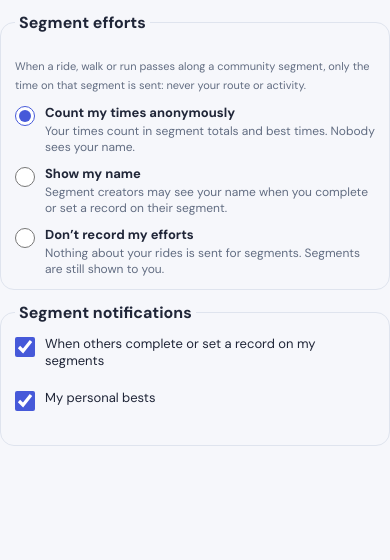
Test: explains participation, is anonymous by default, and lets the person show their name or stop and remove efforts
Expected: the text "only the time on that segment is sent: never your route or activity" is shown, [15,59,370,92]
Expected: the radio button labelled "Count my times anonymously" is checked, [15,106,35,126]
Click the radio button labelled "Show my name".
click(25, 177)  # box [15,167,35,187]
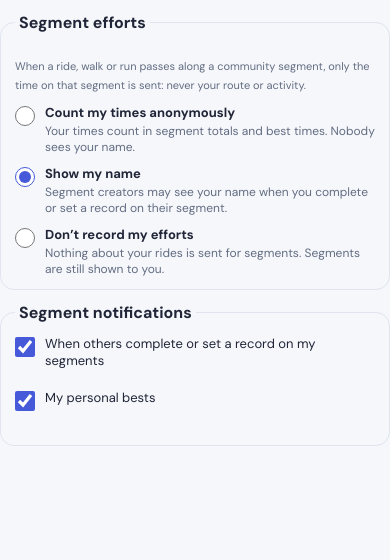
Expected: the button "Remove my earlier efforts" is not shown
Click the radio button labelled "Don’t record my efforts".
click(25, 238)  # box [15,228,35,248]
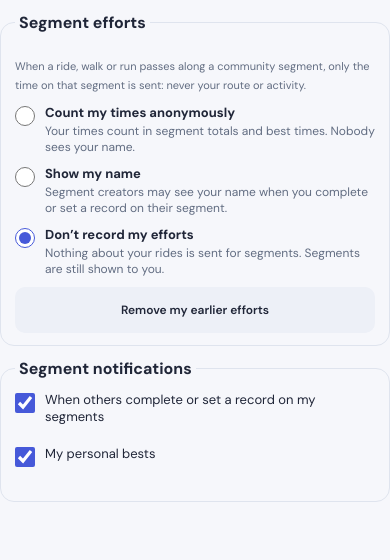
Click the button "Remove my earlier efforts".
click(195, 310)  # box [15,287,375,333]
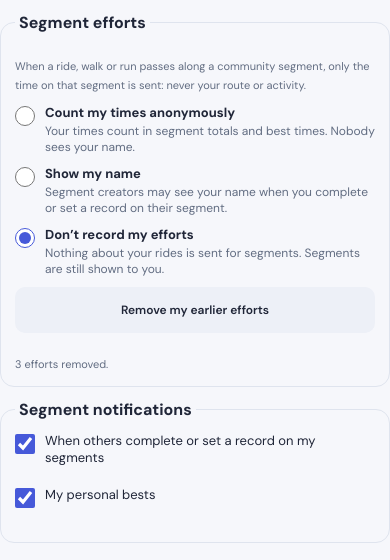
Expected: the message reads "3 efforts removed.", [15,357,108,371]
